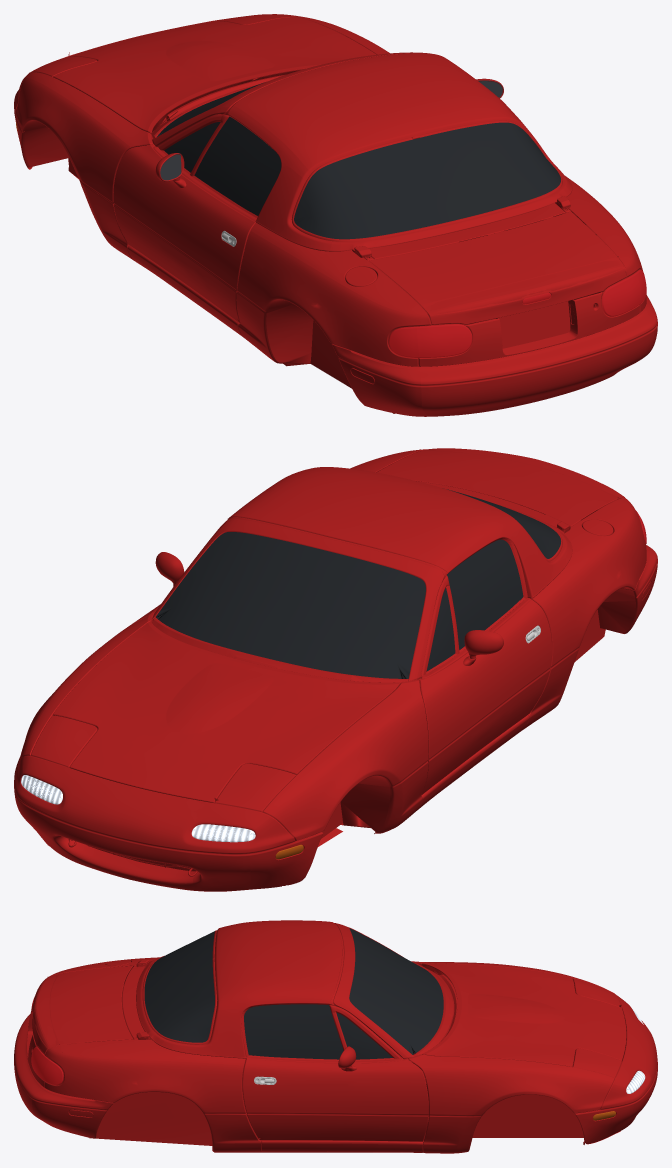
File: na_render.glb
3 views of the same model, one above another, from view 1: azimuth 30°, elevation 25°; view 2: azimuth 150°, elevation 25°; view 3: azimuth 270°, elevation 25° (orthographic). The views are drawn at different scales.
Visible parts, largest first — view 1: Miata_Body, Miata_Glass, Miata_Lamp_Tail; view 2: Miata_Body, Miata_Glass, Miata_Lamp_Running; view 3: Miata_Body, Miata_Glass, Miata_Lamp_Tail.
Part boxes in pixels (bbox=[...]): Miata_Body: bbox=[14, 14, 657, 416]; Miata_Glass: bbox=[157, 82, 560, 239]; Miata_Lamp_Tail: bbox=[389, 269, 646, 357]; Miata_Body: bbox=[14, 448, 657, 891]; Miata_Glass: bbox=[156, 489, 560, 678]; Miata_Lamp_Running: bbox=[21, 775, 255, 842]; Miata_Body: bbox=[14, 920, 657, 1153]; Miata_Glass: bbox=[144, 928, 443, 1059]; Miata_Lamp_Tail: bbox=[31, 996, 63, 1085].
Bounding box in the file's own units: 74.02 × 43.83 × 160.
